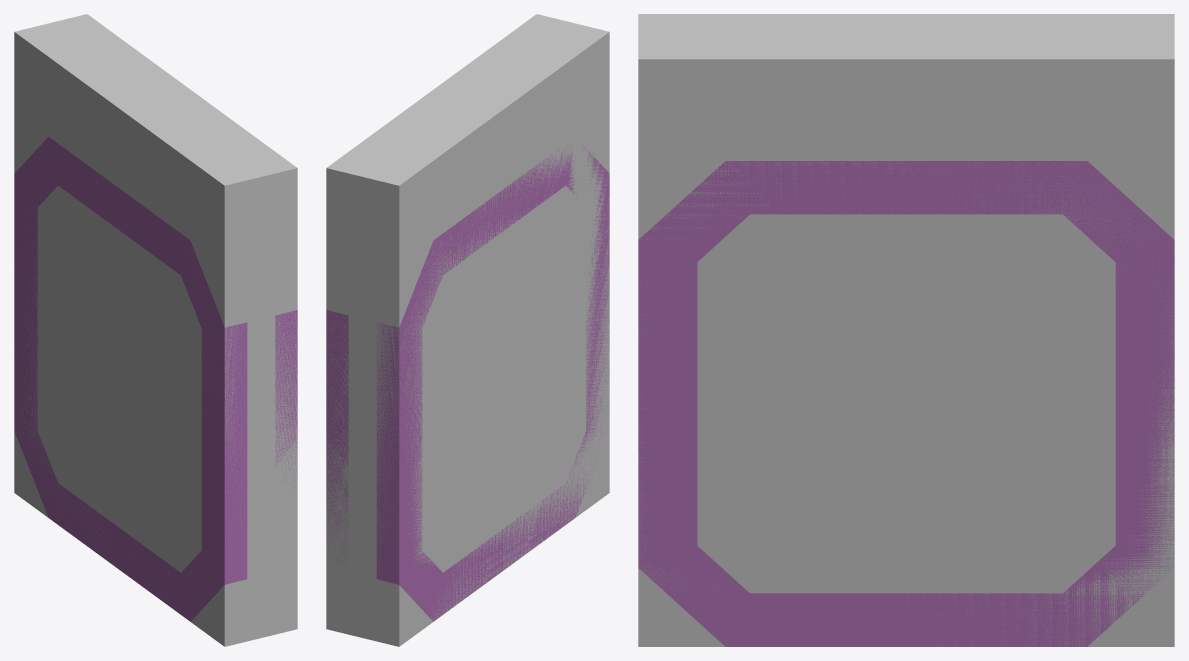
File: SM_Billboard_06.fbx
The picture shows the model from 3 angles, left to right: view 1: azimuth 30°, elevation 25°; view 2: azimuth 150°, elevation 25°; view 3: azimuth 270°, elevation 25°; orthographic projection. The views are drawn at different scales.
Visible parts, largest first — view 1: SM_Billboard_06_ConvexHulls, SM_Billboard_06; view 2: SM_Billboard_06_ConvexHulls, SM_Billboard_06; view 3: SM_Billboard_06_ConvexHulls, SM_Billboard_06.
Part boxes in pixels (x1,y1,x2,y2): SM_Billboard_06_ConvexHulls: (14, 14, 297, 646); SM_Billboard_06: (14, 136, 297, 621); SM_Billboard_06_ConvexHulls: (326, 14, 609, 646); SM_Billboard_06: (326, 144, 609, 621); SM_Billboard_06_ConvexHulls: (638, 14, 1174, 646); SM_Billboard_06: (638, 161, 1174, 646).
Size of the model in its own units: 42 by 210 by 254.
2 materials, 1 textured.
